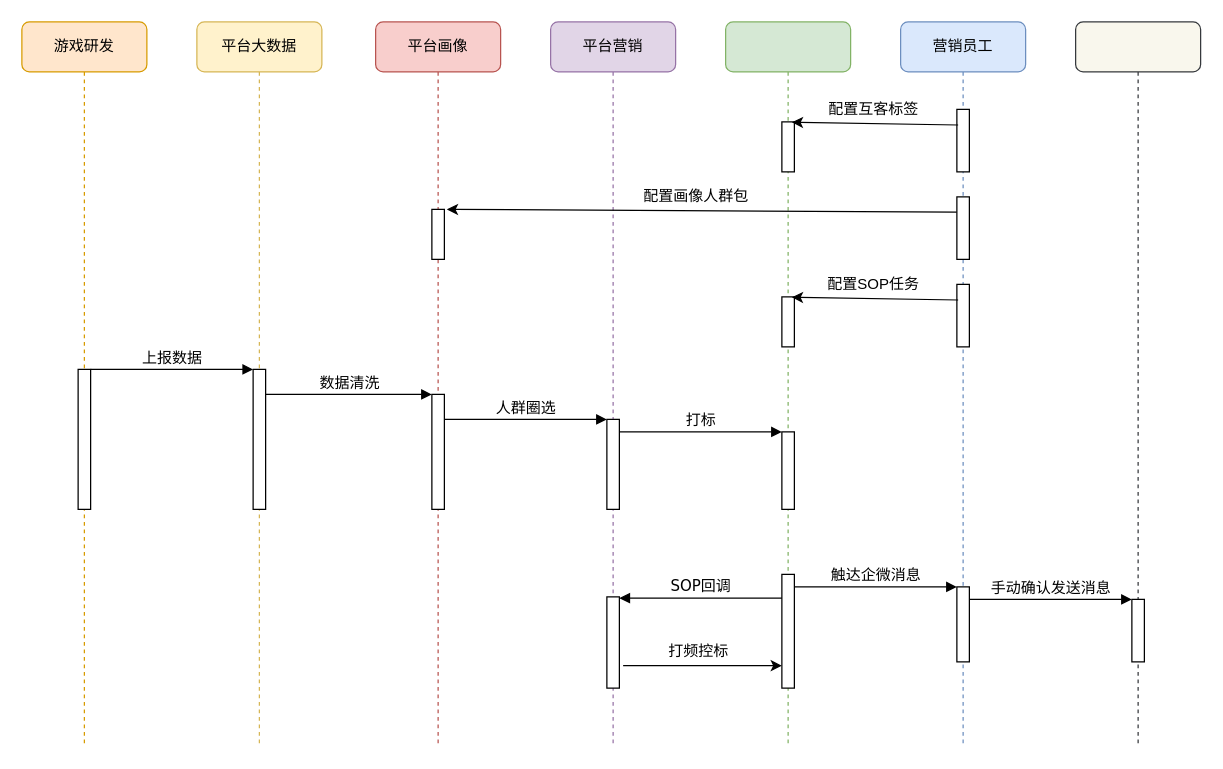
Image size: 1223x769. Some labels were removed from this diagram. Here are the shapes that lost their labels. From the top down, the box of each, then its label:
(724, 21, 851, 747): 互客SCRM
(1074, 21, 1201, 747): 用户
